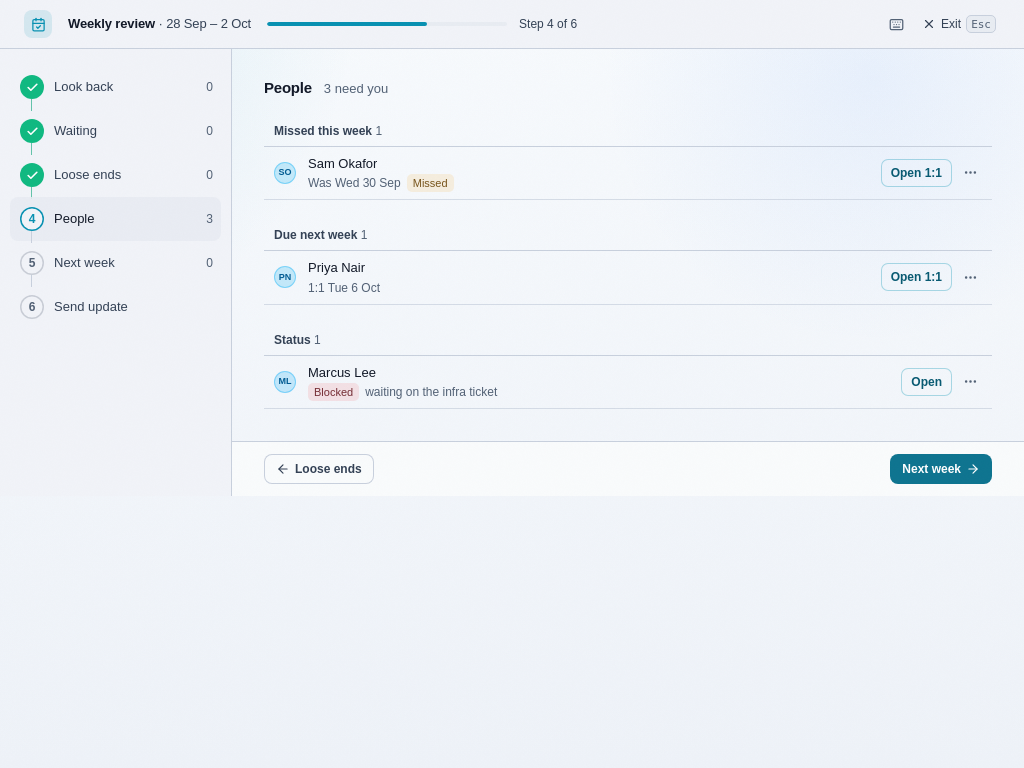
Test: People step (docs/59 §5.3 step 4) › puts a session back and raises an error when the skip fails
expect the heading "People" is shown: met, box [264,77,312,100]
What coordinates should you click on to do the following:
click the button named "More actions"
I would click on:
 (970, 173)
Its box is [956,159,984,187].
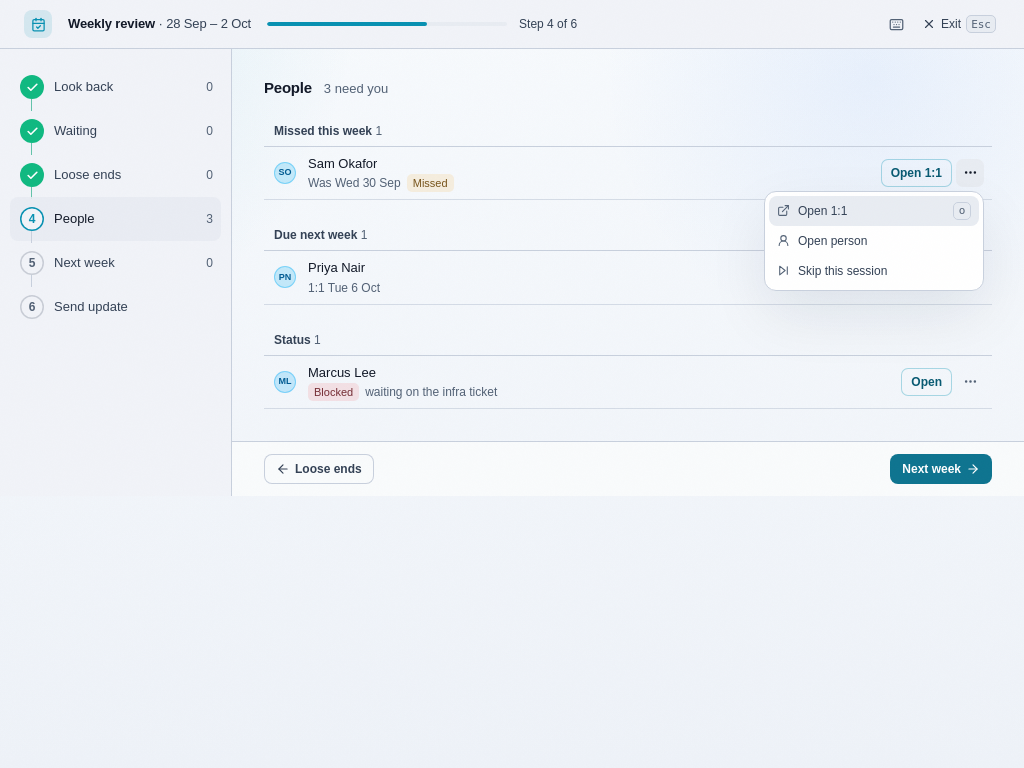
What coordinates should you click on to do the following:
click the menu item "Skip this session"
I would click on:
 (874, 271)
Its box is [769,256,979,286].
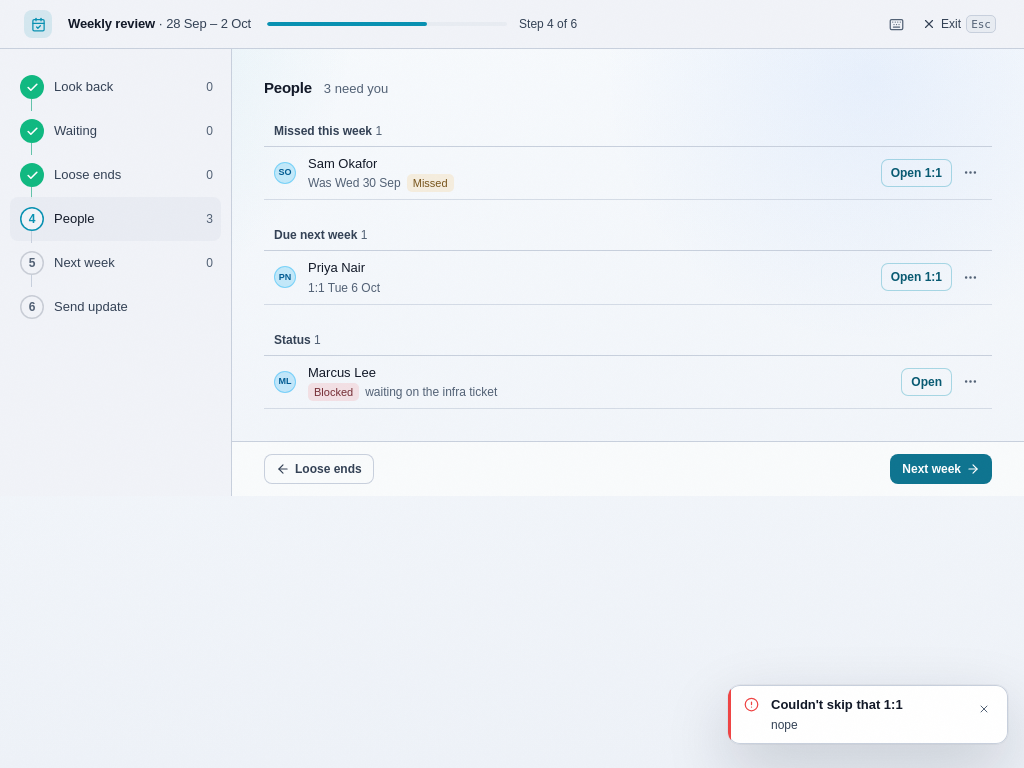
expect the text "Missed" is shown: met, box [407,174,454,192]
expect the text "Couldn't skip that 1:1" is shown: met, box [771,696,903,712]
